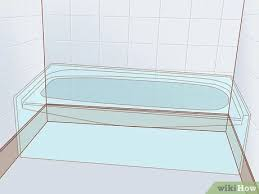bathub: (12, 61, 259, 180)
